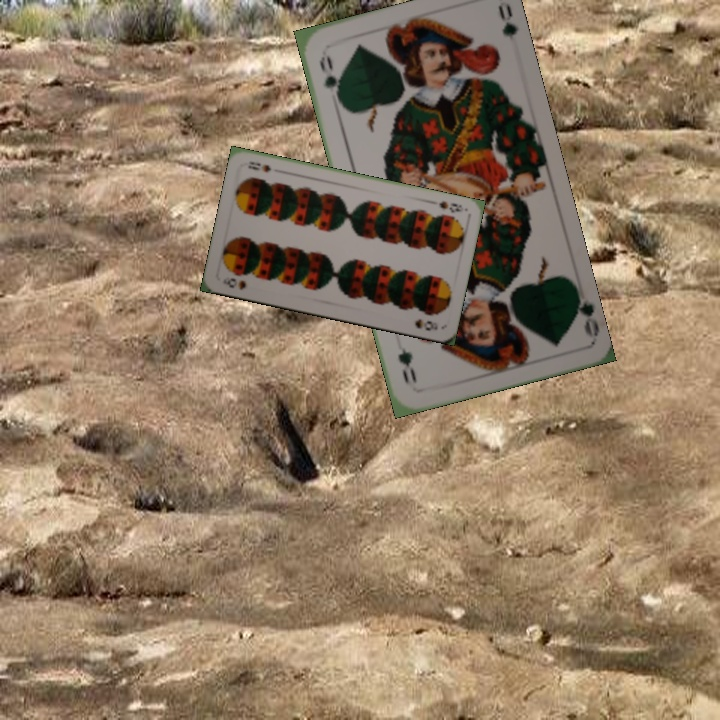GO: (569, 282, 601, 340), (315, 51, 344, 106)
S8: (435, 197, 466, 215), (223, 274, 249, 292)
